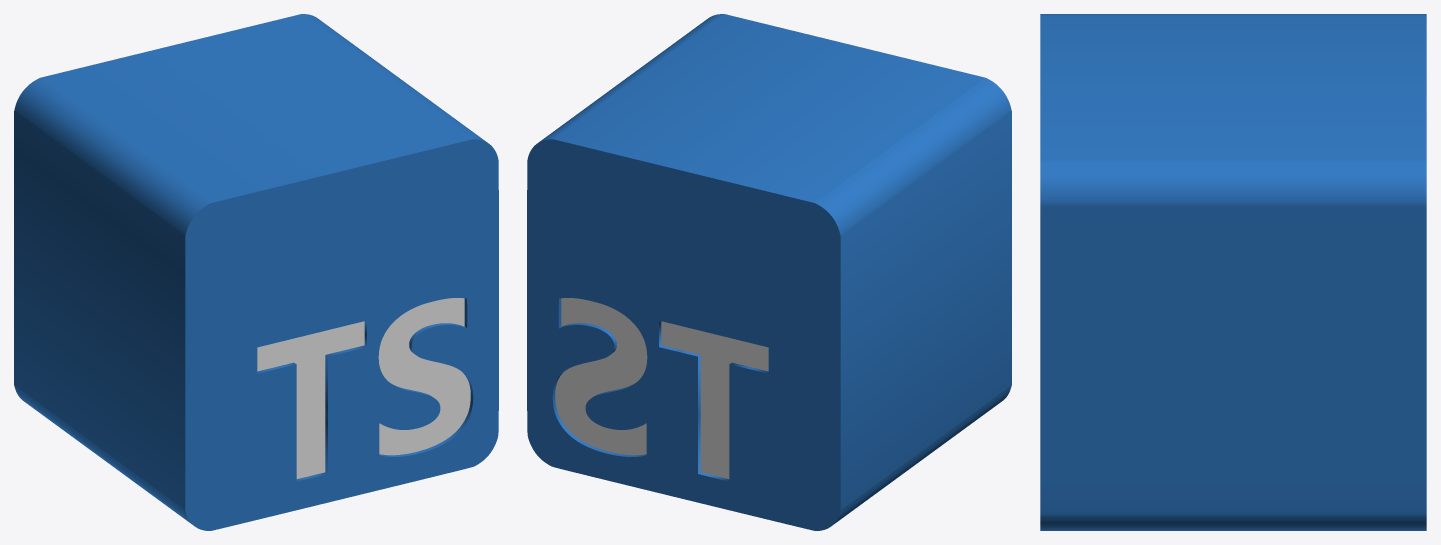
3 renders of one model, left to right at view 1: azimuth 30°, elevation 25°; view 2: azimuth 150°, elevation 25°; view 3: azimuth 270°, elevation 25°, orthographic. The views are drawn at different scales.
Parts seen in each view (by area): view 1: path364, Cube; view 2: path364, Cube; view 3: path364.
Boxes of the visible parts, x1,y1,x2,y2 form: path364: (14, 14, 498, 530); Cube: (257, 298, 470, 478); path364: (527, 14, 1011, 530); Cube: (555, 298, 768, 478); path364: (1040, 14, 1426, 530).
Bounding box in the file's own units: 1.33 × 1.33 × 1.26.
